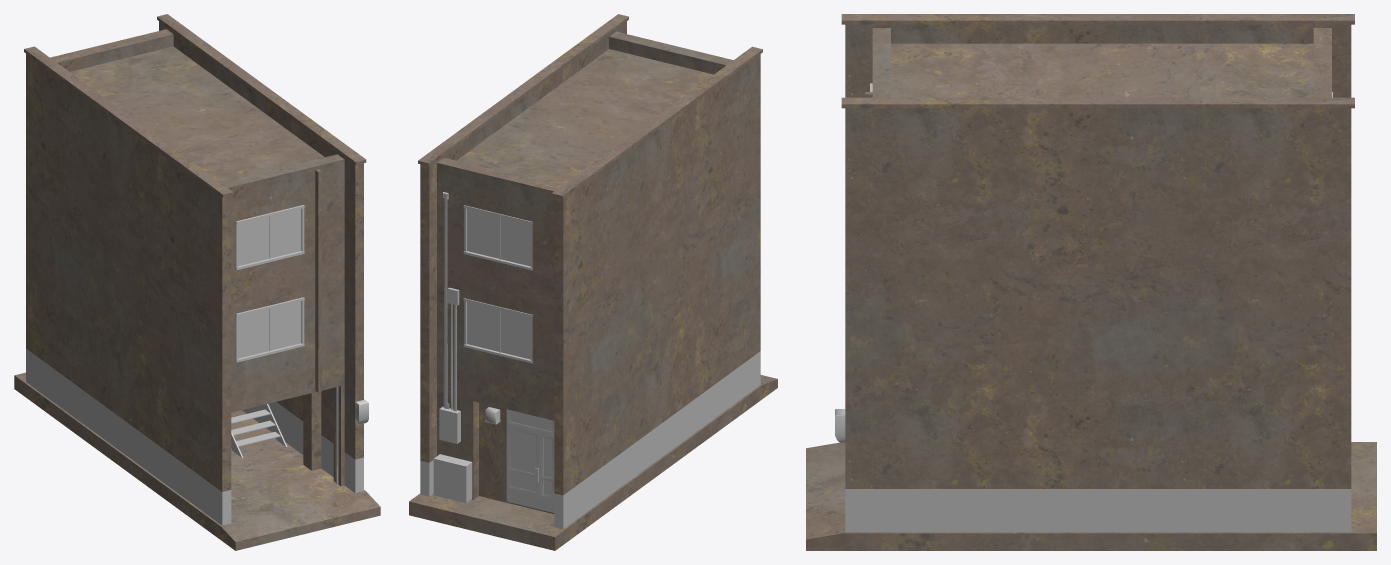
File: gmallbil_s_b1a.fbx
3 renders of one model, left to right at view 1: azimuth 30°, elevation 25°; view 2: azimuth 150°, elevation 25°; view 3: azimuth 270°, elevation 25°, orthographic. The views are drawn at different scales.
Parts seen in each view (by area): view 1: gmallbil_s_b1a; view 2: gmallbil_s_b1a; view 3: gmallbil_s_b1a.
Boxes of the visible parts, <box> form: gmallbil_s_b1a: <box>14,14,380,550</box>; gmallbil_s_b1a: <box>409,14,777,550</box>; gmallbil_s_b1a: <box>806,14,1376,550</box>.
Bounding box in the file's own units: 433 × 987 × 1144.
